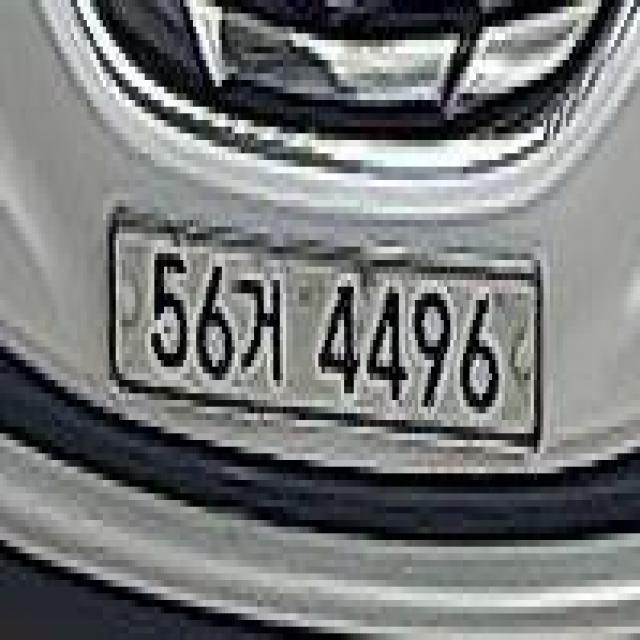4: (365, 257, 410, 408), (312, 262, 360, 398)
5: (146, 246, 189, 376)
6: (460, 274, 502, 418), (192, 249, 235, 384)
9: (412, 255, 456, 412)
geo: (233, 256, 285, 388)
license_plate: (98, 190, 556, 476)
